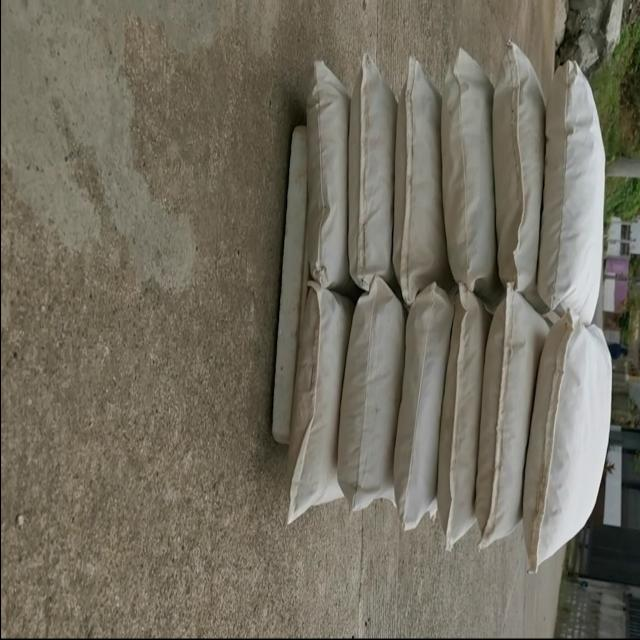Sack: (524, 305, 600, 569), (332, 283, 411, 527), (539, 72, 617, 318), (270, 289, 348, 533), (390, 296, 462, 550), (428, 298, 494, 562), (477, 290, 533, 582), (431, 61, 499, 296), (389, 68, 451, 298), (341, 68, 402, 296), (289, 81, 351, 287), (490, 50, 538, 300)
